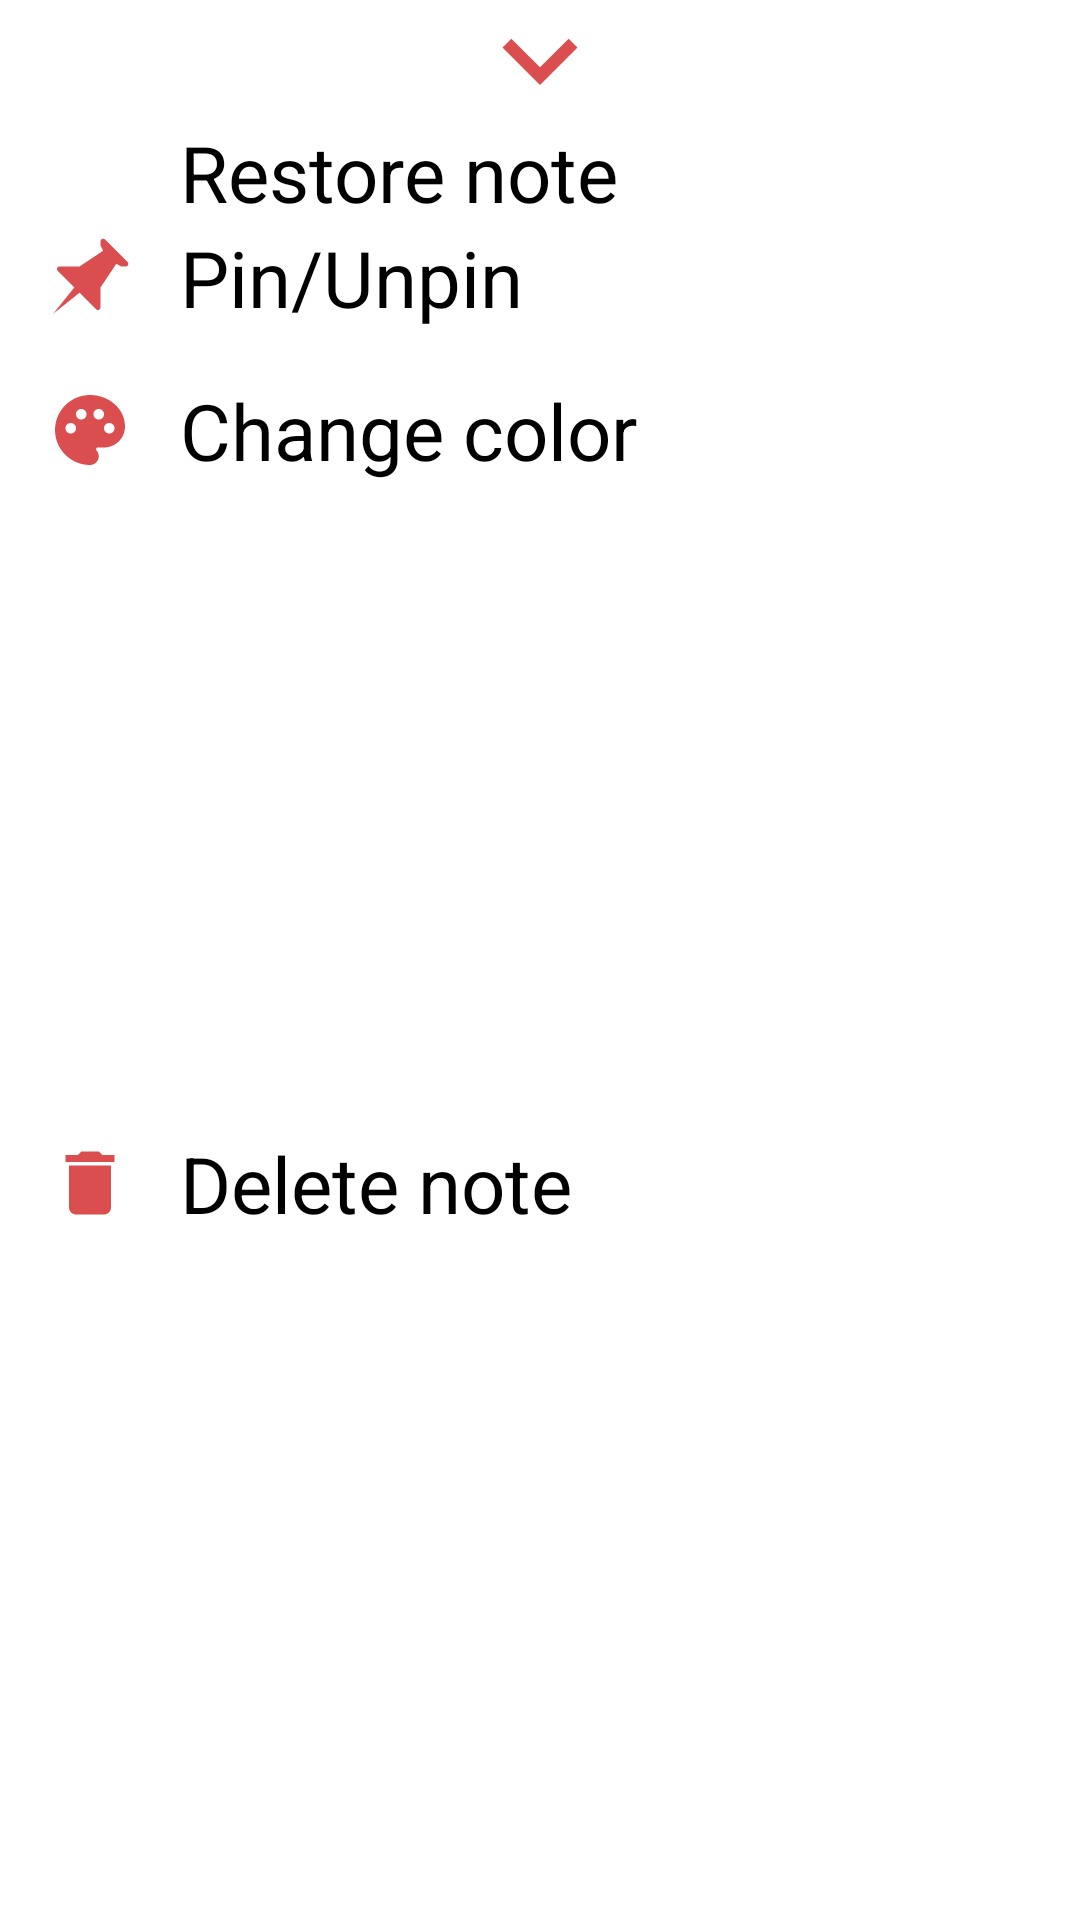

Icon bounding boxes for this 1080 x 1920 phone screenshot, format detection(x1, y1, x2, y2):
down: detection(502, 39, 578, 85)
palette: detection(55, 395, 125, 465)
